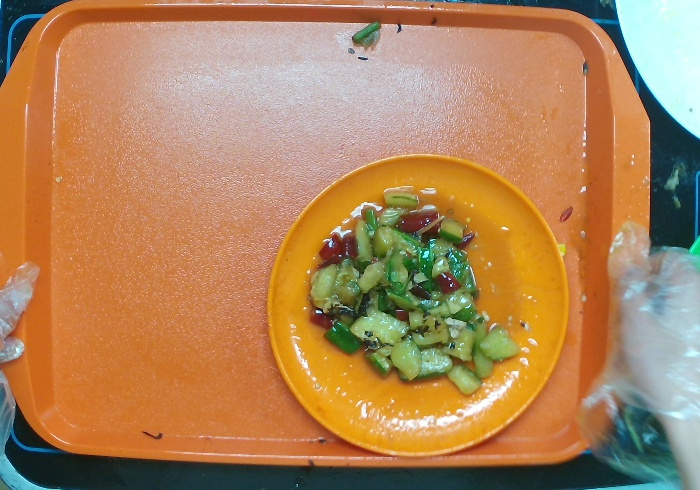HZYJPL-Ju_Huang_Yuan_Pan: (262, 144, 578, 462)
